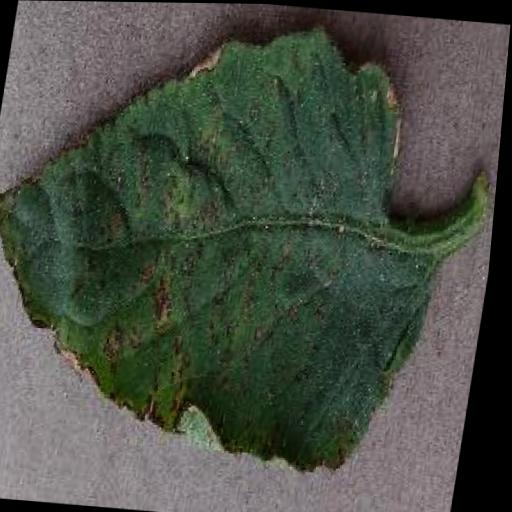Bacterial Spot: (0, 0, 471, 477)
